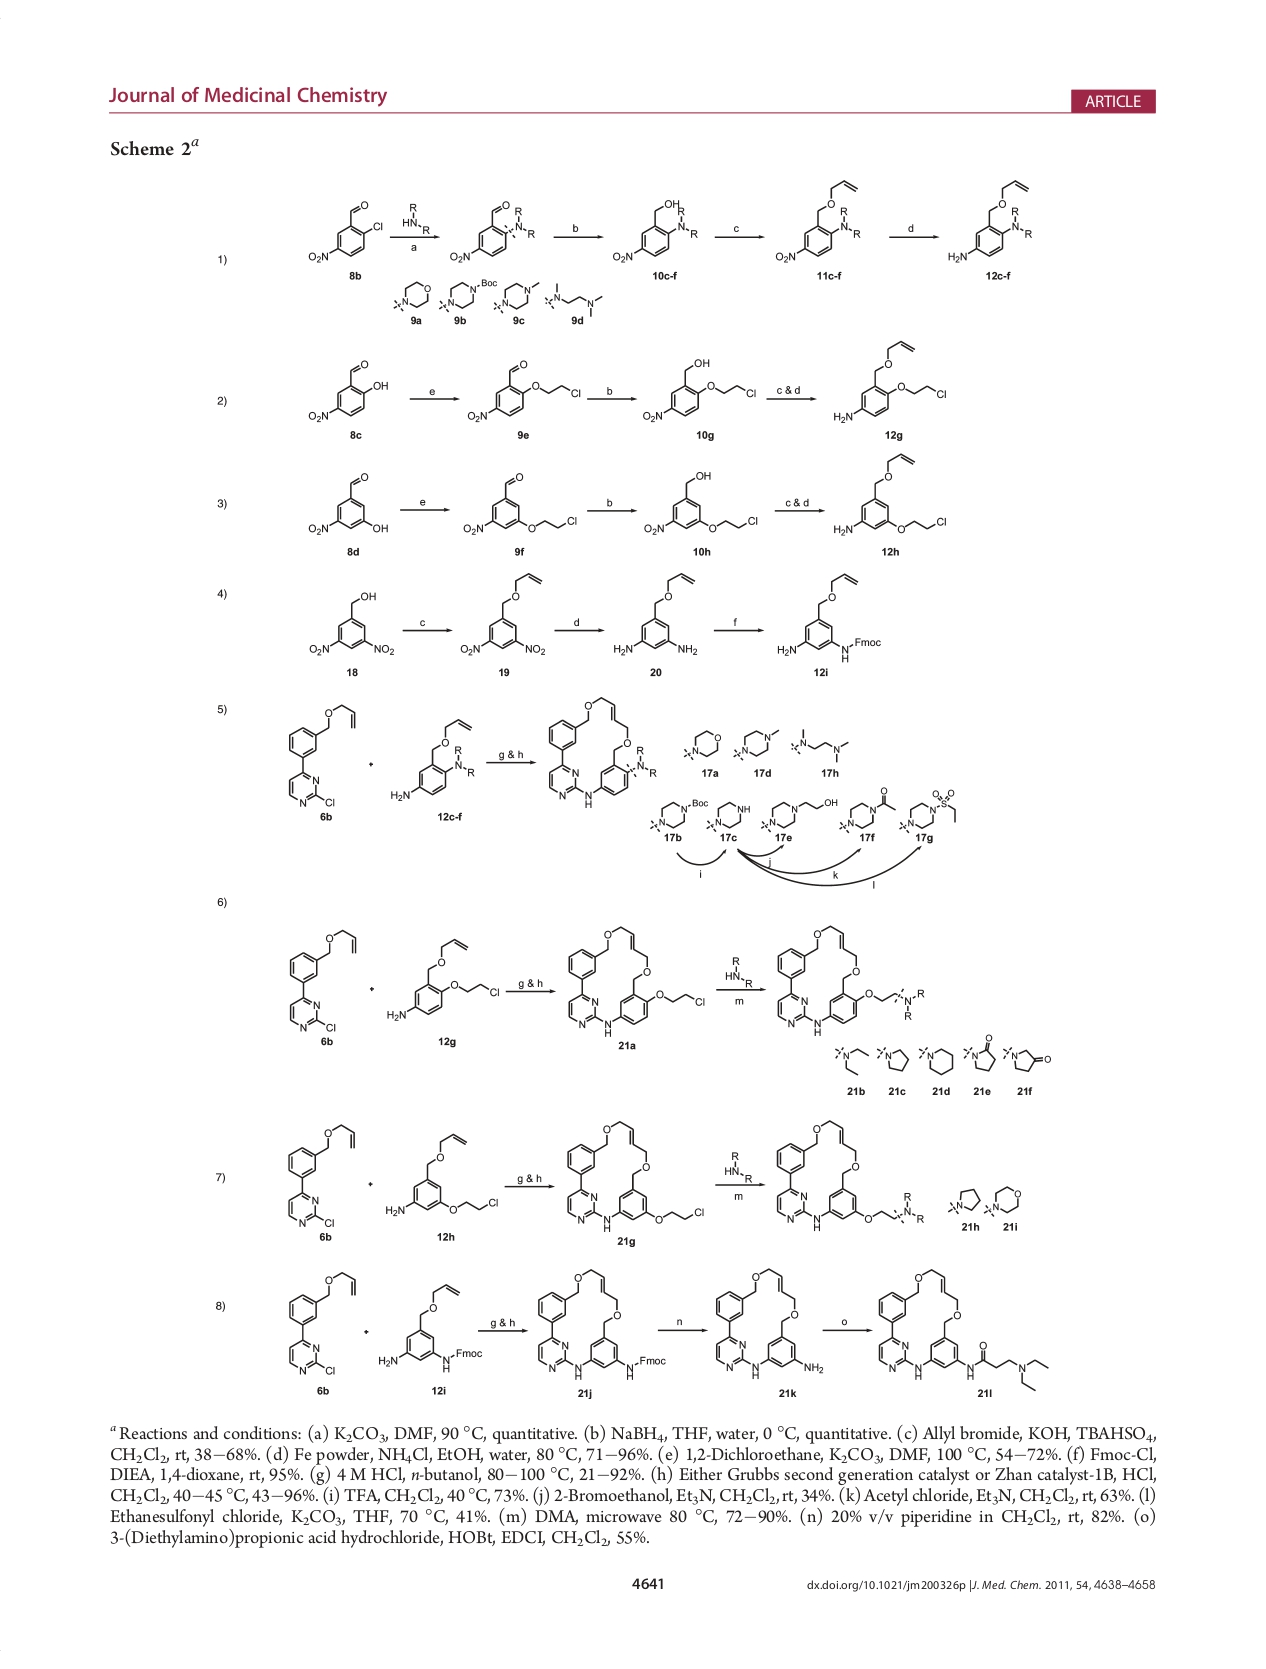exist_molecular: (875, 1263, 1049, 1392), (775, 922, 926, 1039), (774, 1118, 927, 1231), (565, 922, 709, 1040), (564, 1117, 703, 1234), (535, 1267, 668, 1380), (543, 693, 658, 810), (711, 1263, 826, 1380), (774, 569, 883, 666), (383, 934, 501, 1023), (380, 1130, 500, 1218), (828, 451, 948, 536), (376, 1279, 484, 1374), (830, 338, 948, 423), (278, 1117, 358, 1231), (281, 924, 360, 1037), (769, 176, 864, 265), (944, 172, 1035, 265), (457, 569, 551, 658), (612, 571, 701, 661), (640, 469, 757, 537), (386, 717, 477, 803), (286, 1267, 359, 1375), (463, 469, 578, 537), (640, 356, 757, 423), (465, 356, 582, 423), (286, 701, 358, 809), (305, 589, 396, 658), (301, 355, 390, 424), (444, 199, 537, 265), (305, 471, 391, 540), (610, 197, 698, 265), (305, 197, 383, 266), (758, 793, 839, 835), (895, 789, 960, 835), (838, 786, 896, 835), (786, 723, 852, 765), (435, 274, 496, 314), (543, 281, 605, 319), (729, 719, 781, 765), (646, 797, 707, 834), (674, 719, 723, 763), (489, 277, 540, 317), (957, 1029, 999, 1075), (1000, 1043, 1051, 1079), (703, 797, 751, 834), (828, 1040, 868, 1079), (390, 277, 432, 313), (983, 1184, 1023, 1221), (946, 1181, 981, 1217), (398, 195, 432, 233), (918, 1044, 955, 1079), (874, 1043, 910, 1073)
